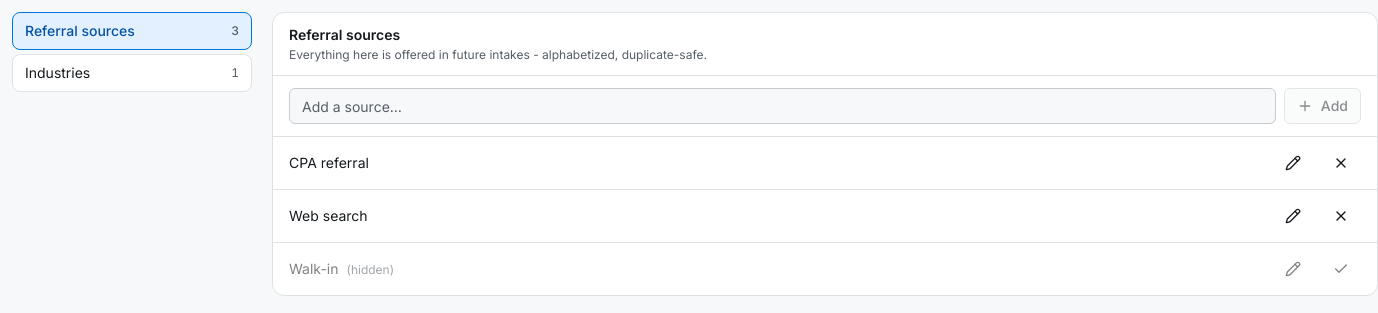
OptionListsAdmin › lists render with their values; switching tabs switches values
The width and height of the screenshot is (1378, 313).
Expected: the list with test id "option-values" shows "CPA referral", x1=289 y1=154 x2=369 y2=171
Click the button with test id "list-tab-industries": (132, 73) x1=12 y1=54 x2=252 y2=92
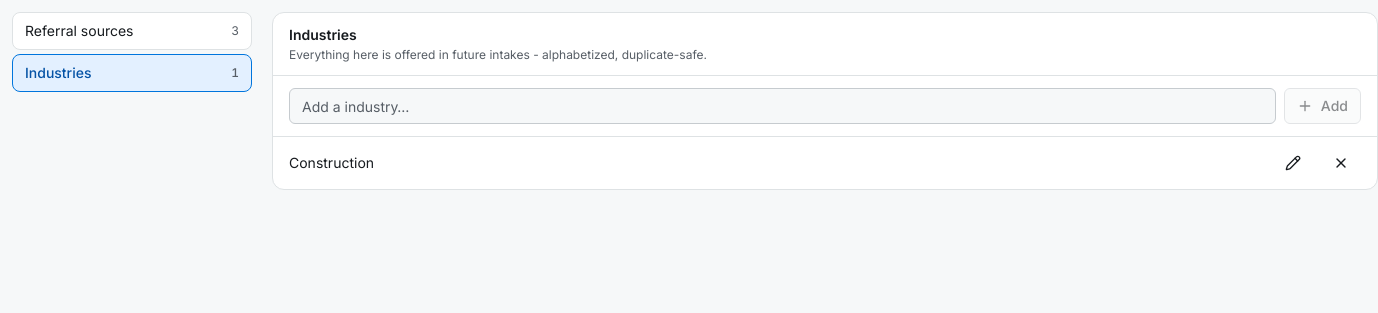
Expected: the list with test id "option-values" reads "Construction", x1=289 y1=154 x2=374 y2=171
Expected: the text "CPA referral" is gone
